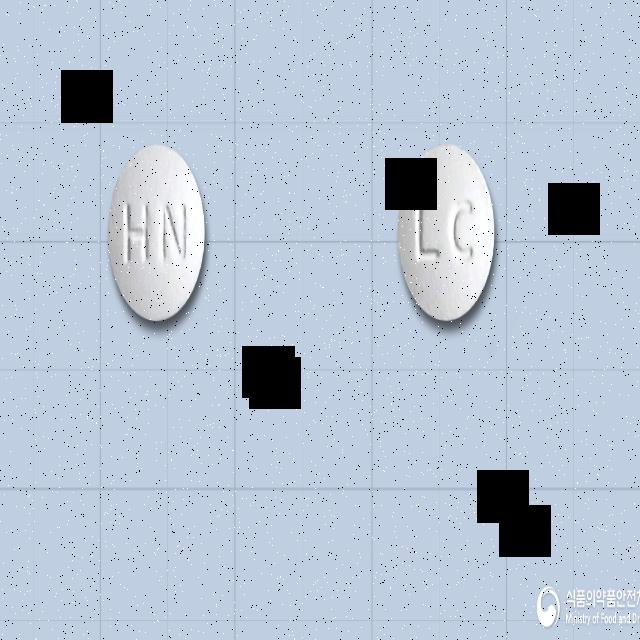Lenacin: (397, 141, 497, 321), (107, 142, 206, 322)
